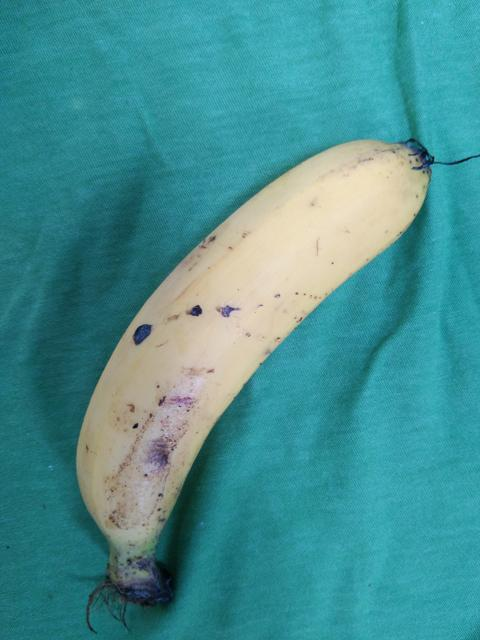ripe: (67, 122, 436, 553)
